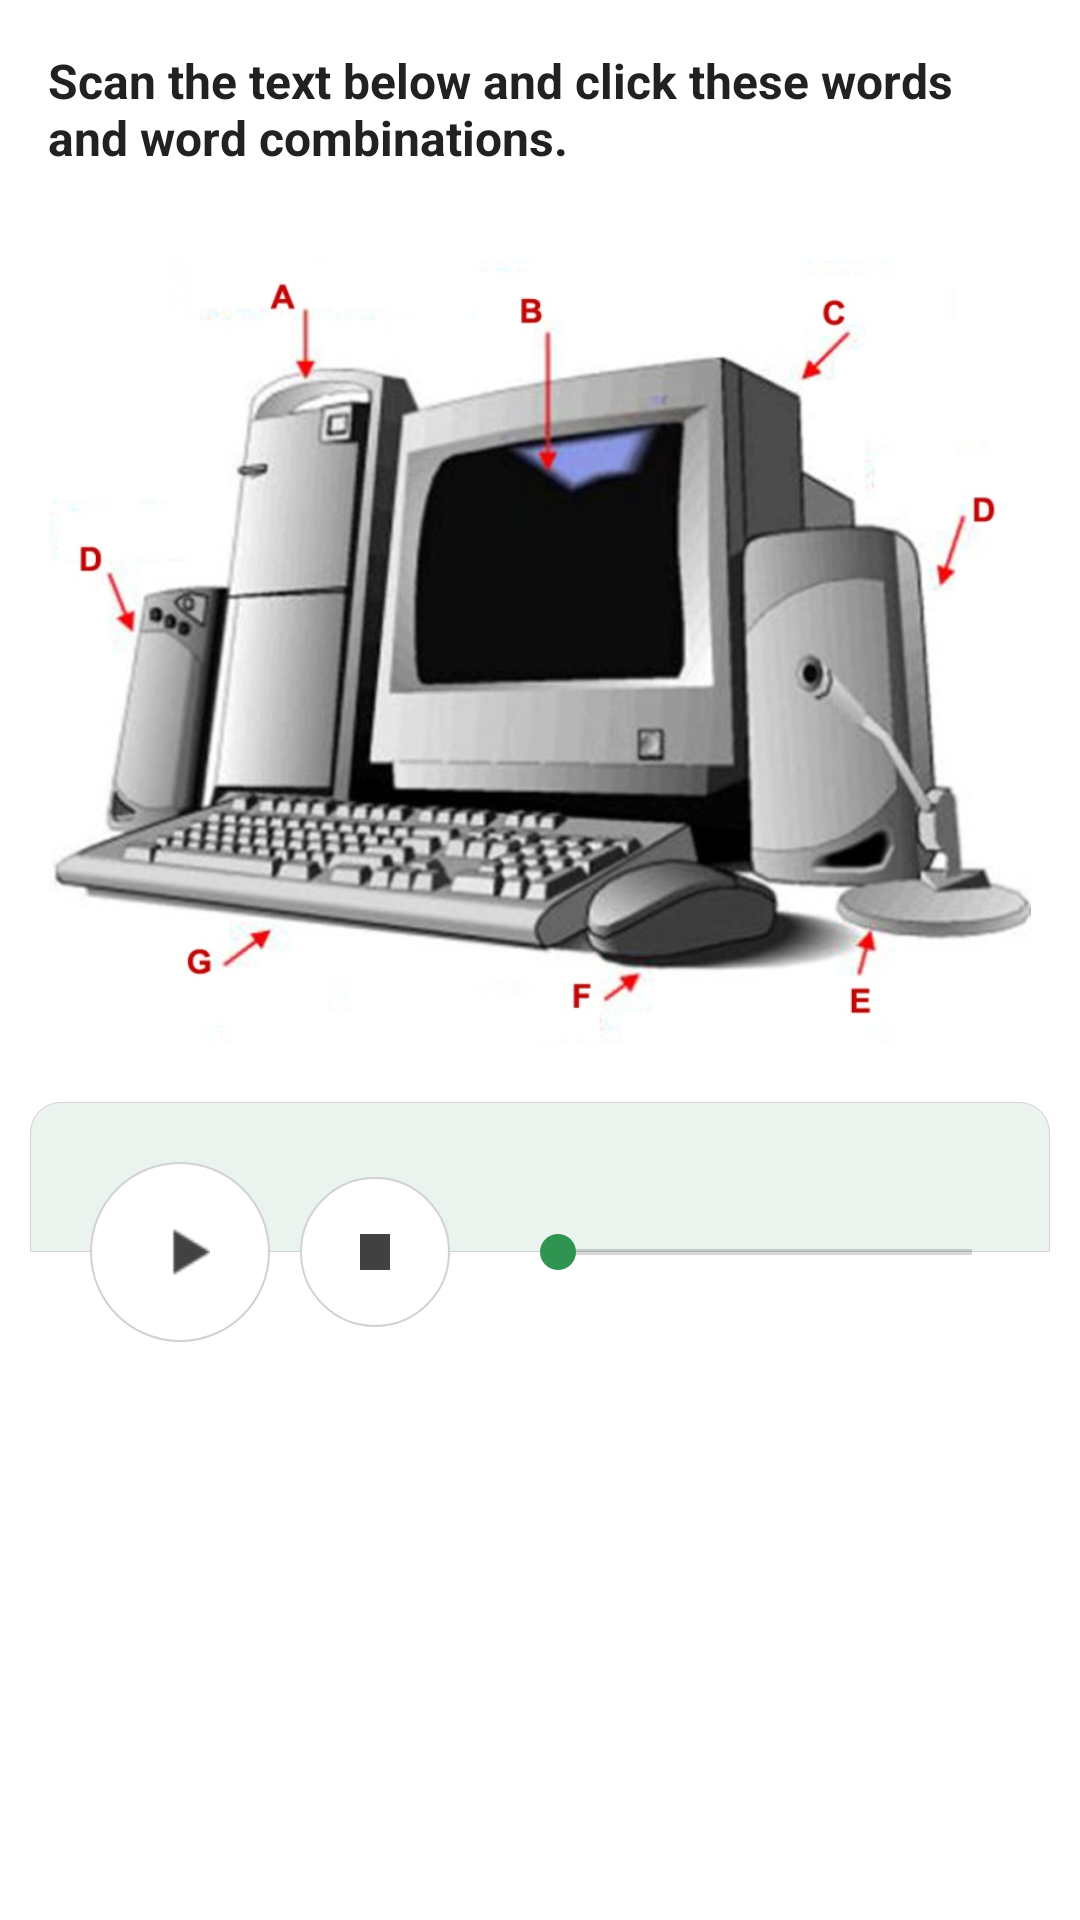

Locate icon controls on the screen. Image size 1080 x 1920, boxes as (x1, y1, x2, y2).
play: (173, 1229, 210, 1275)
